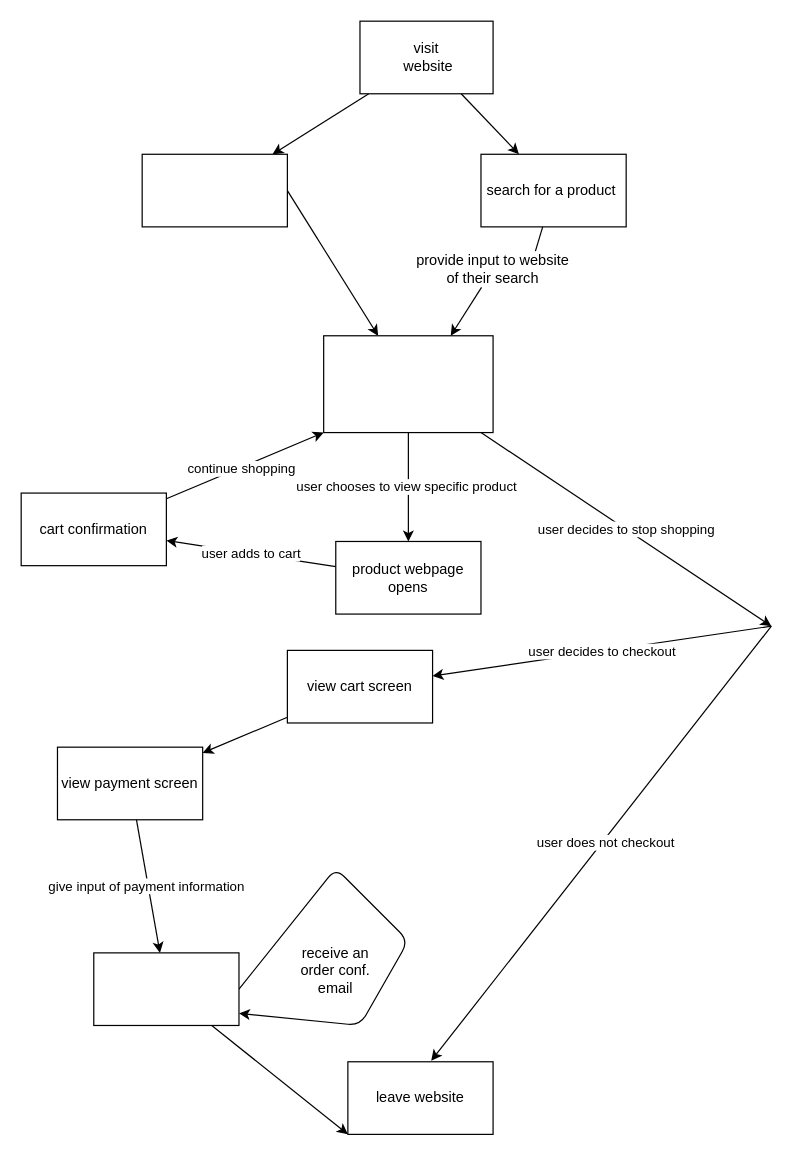
Image size: 802x1165. Some labels were removed from this diagram. The box of each missing label's shape, as (x1, y1, x2, y2) in pixels:
explore products on home page: (141, 153, 287, 227)
looking over products: (322, 335, 493, 433)
order confirmation screen: (93, 952, 239, 1025)
